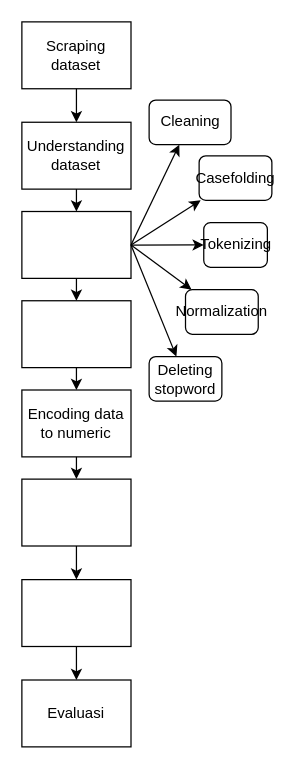
This 296x769 diagram has some shape labels left out. Each missing label, with the centre of its shape:
"Oversampling and Split data" belongs at point 76,512.
"Text Preprocessing" belongs at point 76,244.
"TF-IDF" belongs at point 76,334.
"Train Model" belongs at point 76,612.
